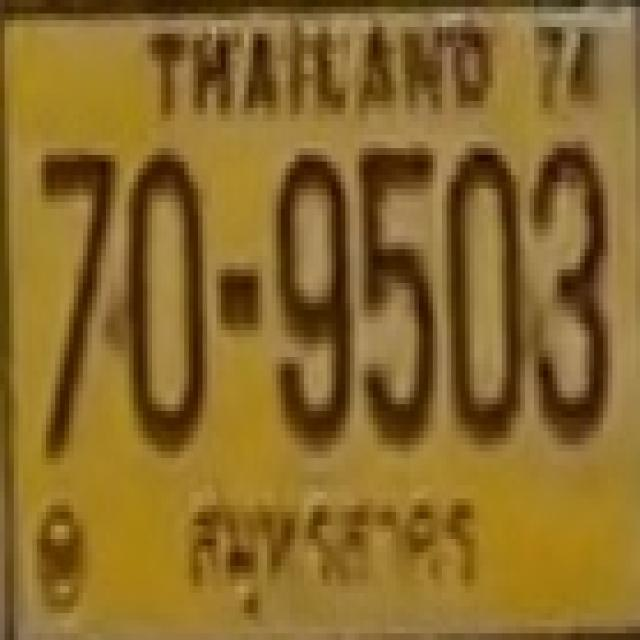0: (120, 148, 202, 445), (442, 141, 520, 438)
3: (527, 138, 606, 435)
5: (354, 141, 433, 438)
7: (37, 148, 110, 445), (37, 148, 110, 350)
9: (272, 148, 350, 438)
SKN: (168, 481, 489, 628)
